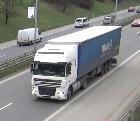car: (103, 16, 112, 24), (132, 19, 140, 27)
truck: (31, 25, 123, 99), (17, 27, 43, 47)
van: (76, 17, 90, 26)
